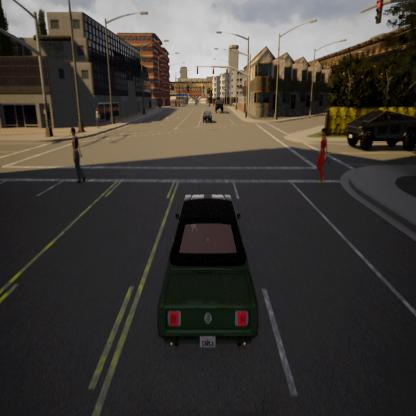Cars: (158, 191, 259, 350), (343, 103, 416, 157), (202, 110, 212, 124), (214, 98, 222, 115)
Pedestrian: (70, 122, 86, 186), (316, 126, 328, 186)
